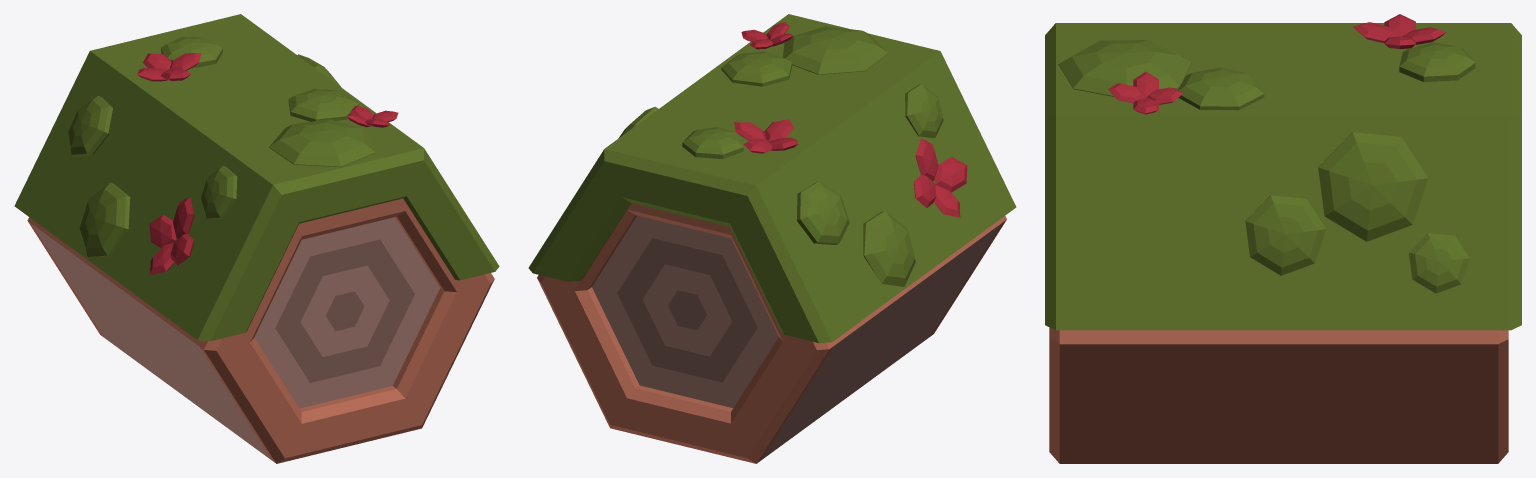
File: Leafy.fbx
The picture shows the model from 3 angles, left to right: view 1: azimuth 30°, elevation 25°; view 2: azimuth 150°, elevation 25°; view 3: azimuth 270°, elevation 25°; orthographic projection. The views are drawn at different scales.
Visible parts, largest first — view 1: pCylinder40, pCylinder39, pSphere53, pSphere47, pSphere3, pSphere54, pSphere48, pSphere55, pSphere86, pSphere89, pSphere88, pSphere87; view 2: pCylinder40, pCylinder39, pSphere53, pSphere47, pSphere3, pSphere54, pSphere48, pSphere55, pSphere87, pSphere89, pSphere88, pSphere86; view 3: pCylinder40, pCylinder39, pSphere50, pSphere53, pSphere51, pSphere54, pSphere52, pSphere55, pSphere83, pSphere78.
Part boxes in pixels (left/top/right/bottom): pCylinder40: left=14, top=14, right=499, bottom=341; pCylinder39: left=27, top=198, right=494, bottom=463; pSphere53: left=269, top=119, right=375, bottom=167; pSphere47: left=79, top=182, right=130, bottom=257; pSphere3: left=68, top=95, right=112, bottom=156; pSphere54: left=288, top=88, right=358, bottom=121; pSphere48: left=200, top=166, right=237, bottom=218; pSphere55: left=161, top=37, right=222, bottom=68; pSphere86: left=149, top=214, right=176, bottom=248; pSphere89: left=173, top=197, right=194, bottom=238; pSphere88: left=150, top=242, right=174, bottom=274; pSphere87: left=170, top=234, right=193, bottom=265; pCylinder40: left=528, top=14, right=1016, bottom=343; pCylinder39: left=537, top=203, right=1006, bottom=463; pSphere53: left=783, top=26, right=888, bottom=74; pSphere47: left=863, top=211, right=915, bottom=286; pSphere3: left=796, top=181, right=849, bottom=244; pSphere54: left=721, top=51, right=792, bottom=86; pSphere48: left=905, top=84, right=943, bottom=138; pSphere55: left=682, top=127, right=743, bottom=159; pSphere87: left=934, top=157, right=967, bottom=192; pSphere89: left=915, top=138, right=938, bottom=181; pSphere88: left=933, top=185, right=960, bottom=217; pSphere86: left=914, top=175, right=936, bottom=207; pCylinder40: left=1045, top=23, right=1521, bottom=330; pCylinder39: left=1049, top=327, right=1508, bottom=463; pSphere50: left=1318, top=132, right=1428, bottom=241; pSphere53: left=1058, top=40, right=1191, bottom=96; pSphere51: left=1245, top=195, right=1326, bottom=275; pSphere54: left=1178, top=67, right=1264, bottom=110; pSphere52: left=1409, top=233, right=1469, bottom=293; pSphere55: left=1399, top=42, right=1475, bottom=82; pSphere83: left=1353, top=22, right=1398, bottom=42; pSphere78: left=1108, top=83, right=1146, bottom=103.
Size of the model in its own units: 2.08 by 1.95 by 2.28.
